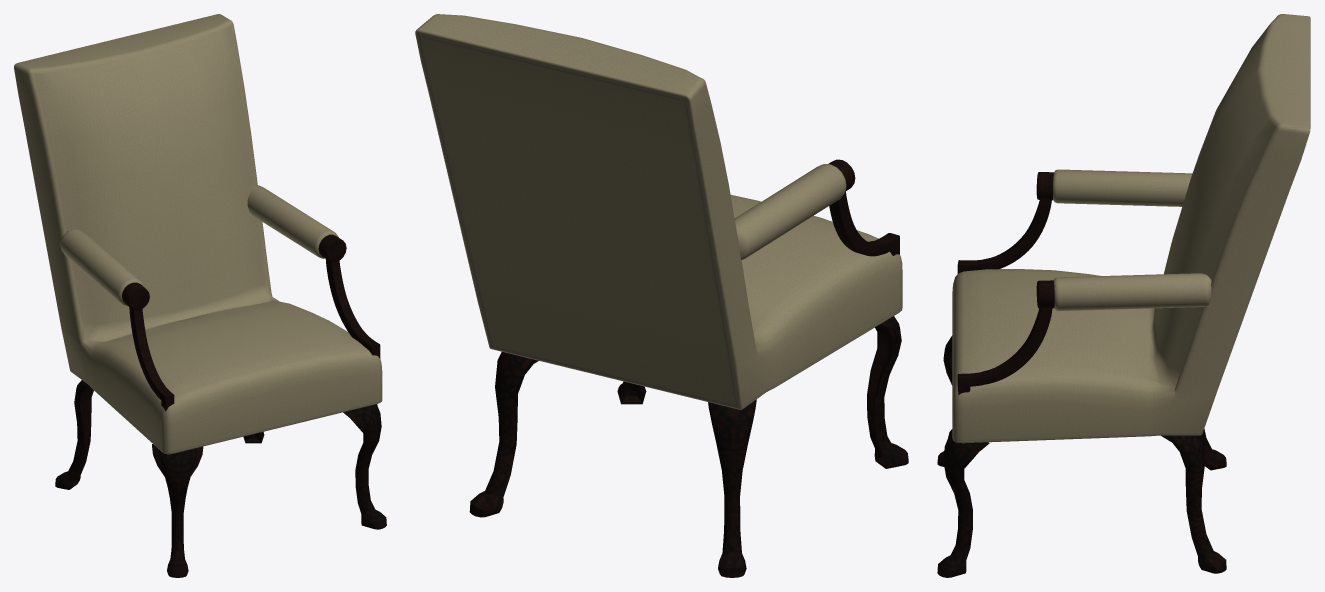
File: ChairRetro04.FBX
The picture shows the model from 3 angles, left to right: view 1: azimuth 30°, elevation 25°; view 2: azimuth 150°, elevation 25°; view 3: azimuth 270°, elevation 25°; orthographic projection. The views are drawn at different scales.
Parts seen in each view (by area): view 1: ChairRetro04; view 2: ChairRetro04; view 3: ChairRetro04.
Part boxes in pixels (x1,y1,x2,y2): ChairRetro04: (14,14,386,577); ChairRetro04: (415,14,908,577); ChairRetro04: (937,14,1310,577).
Size of the model in its own units: 0.6419 by 1.09 by 0.8213.
